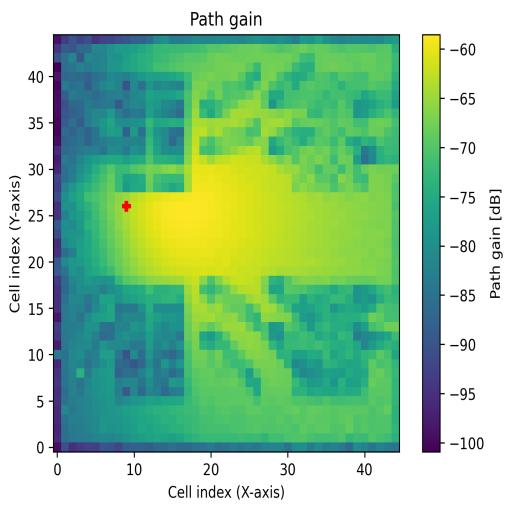Concrete: (292, 71, 368, 191)
Glass: (115, 70, 192, 193)
Metal: (292, 285, 362, 397)
Wood: (114, 285, 186, 397)
